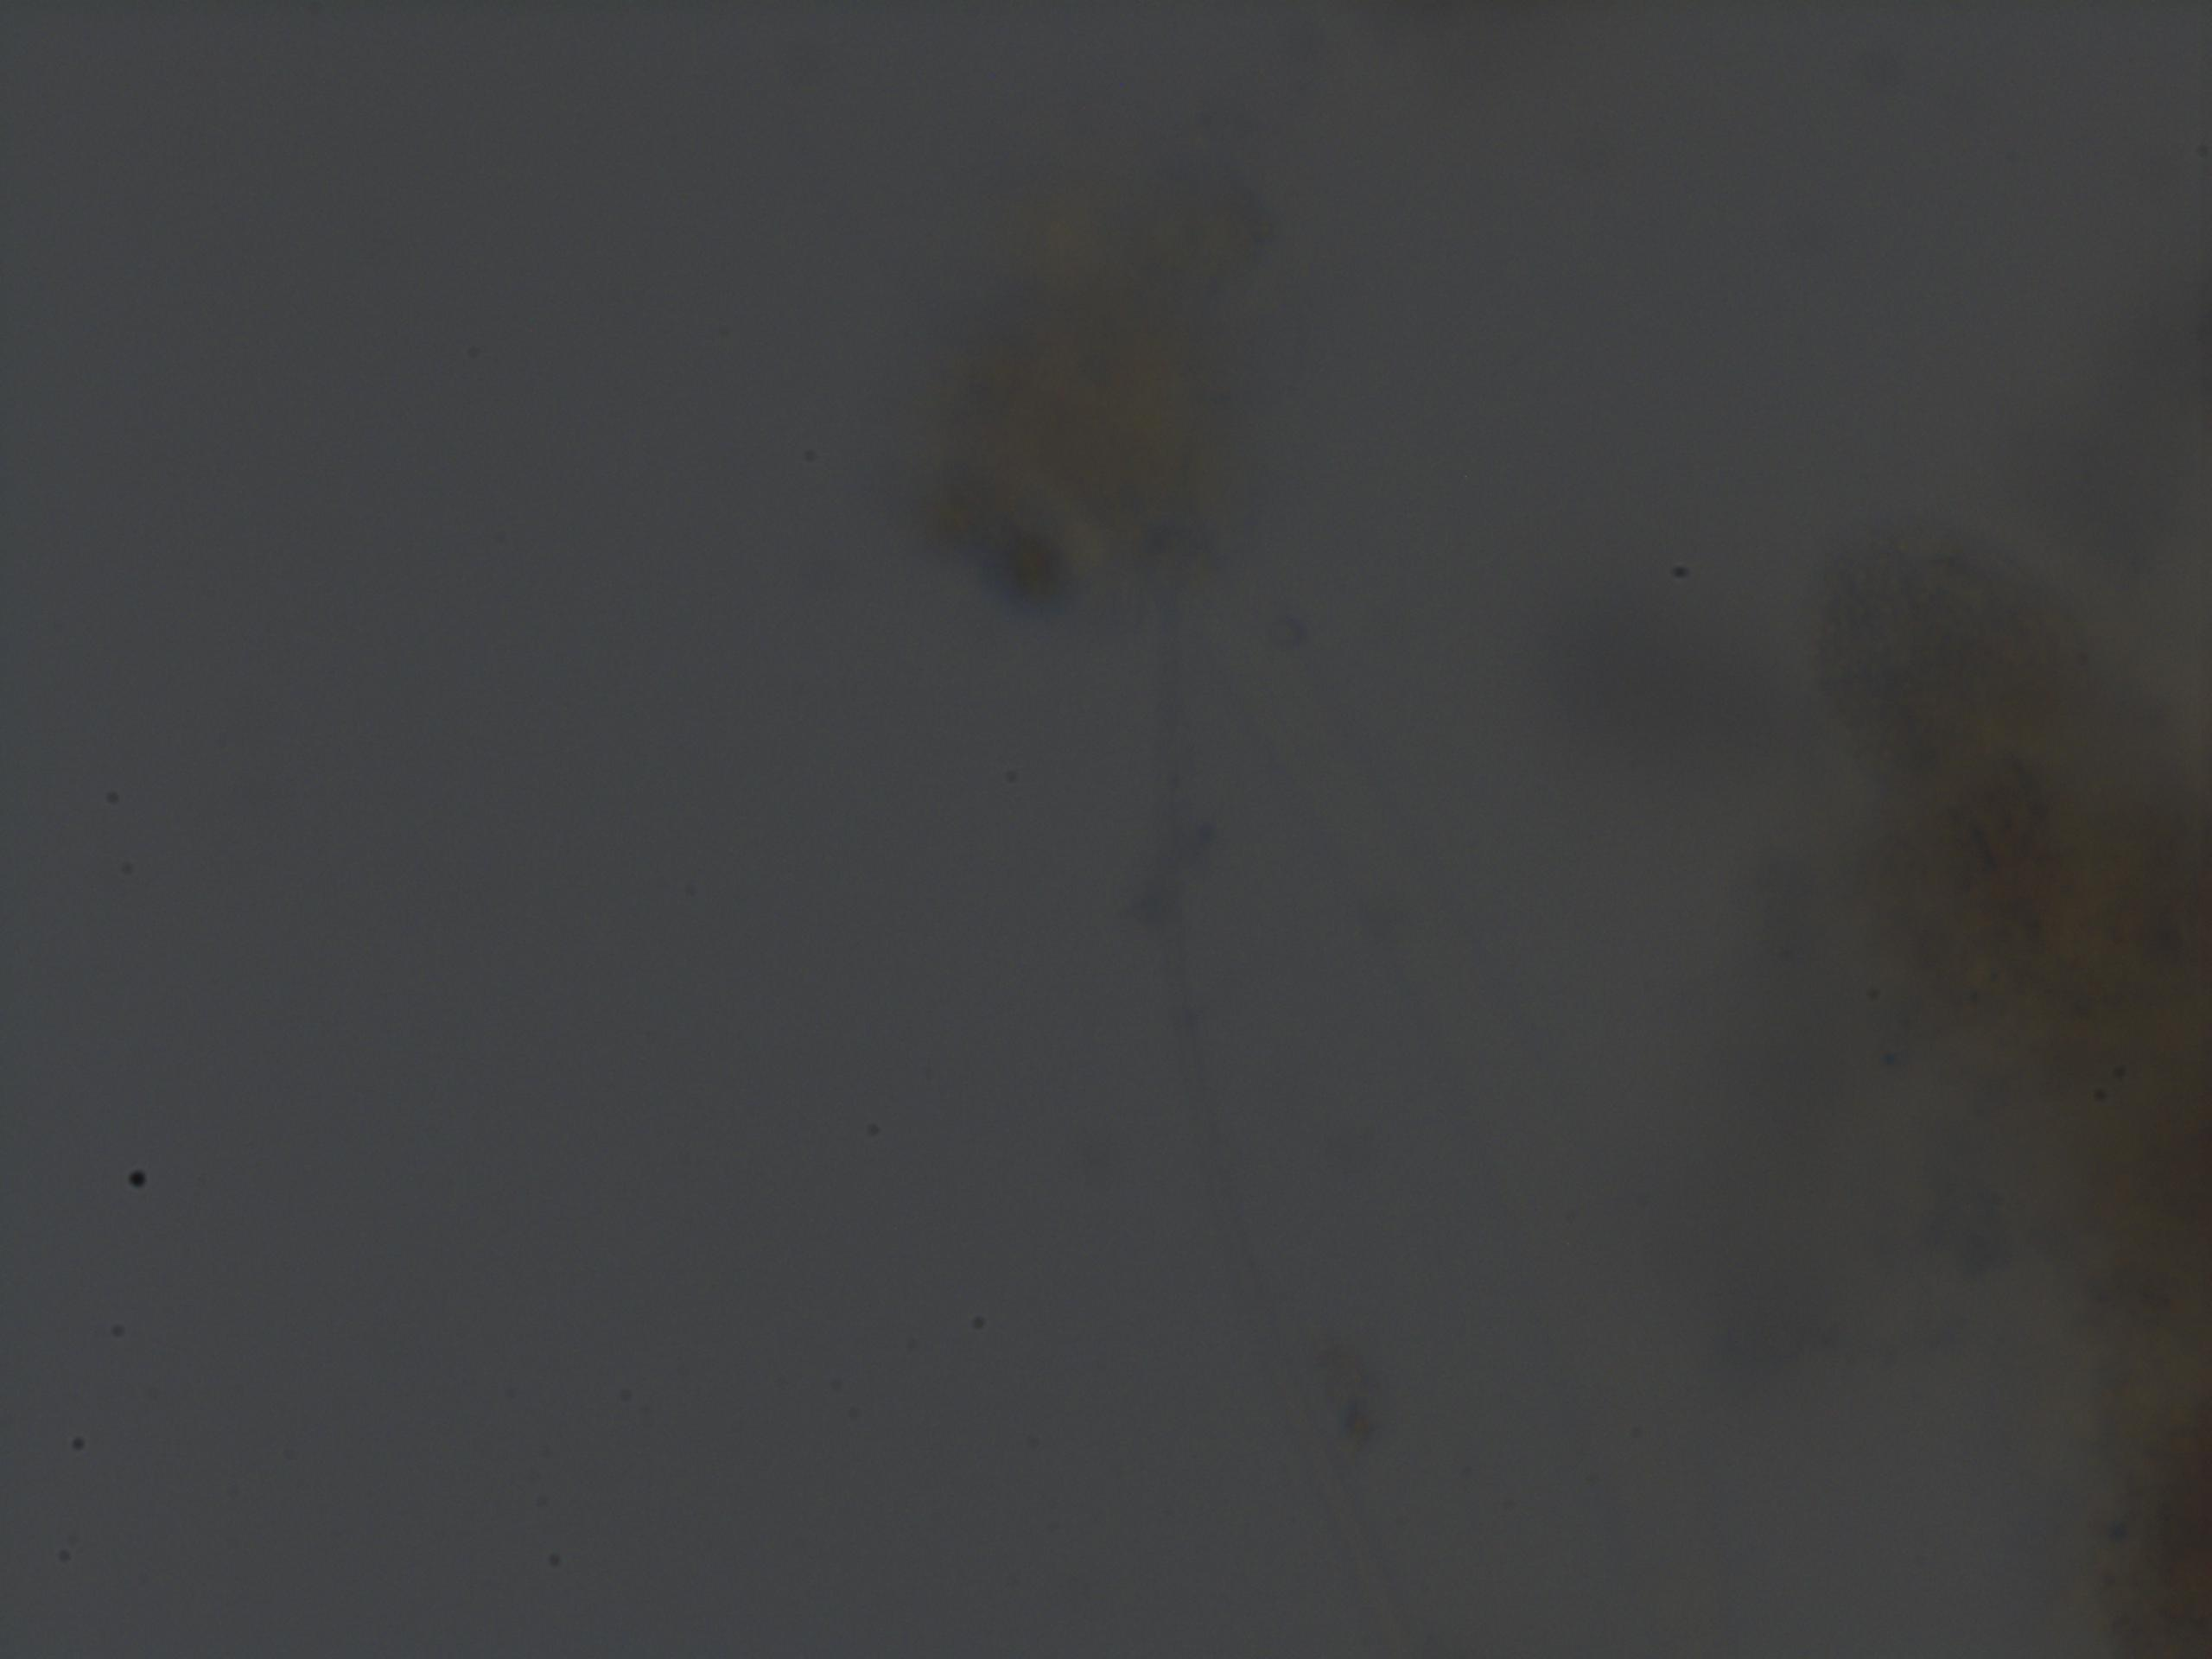filament: (1116, 545, 1421, 1654)
